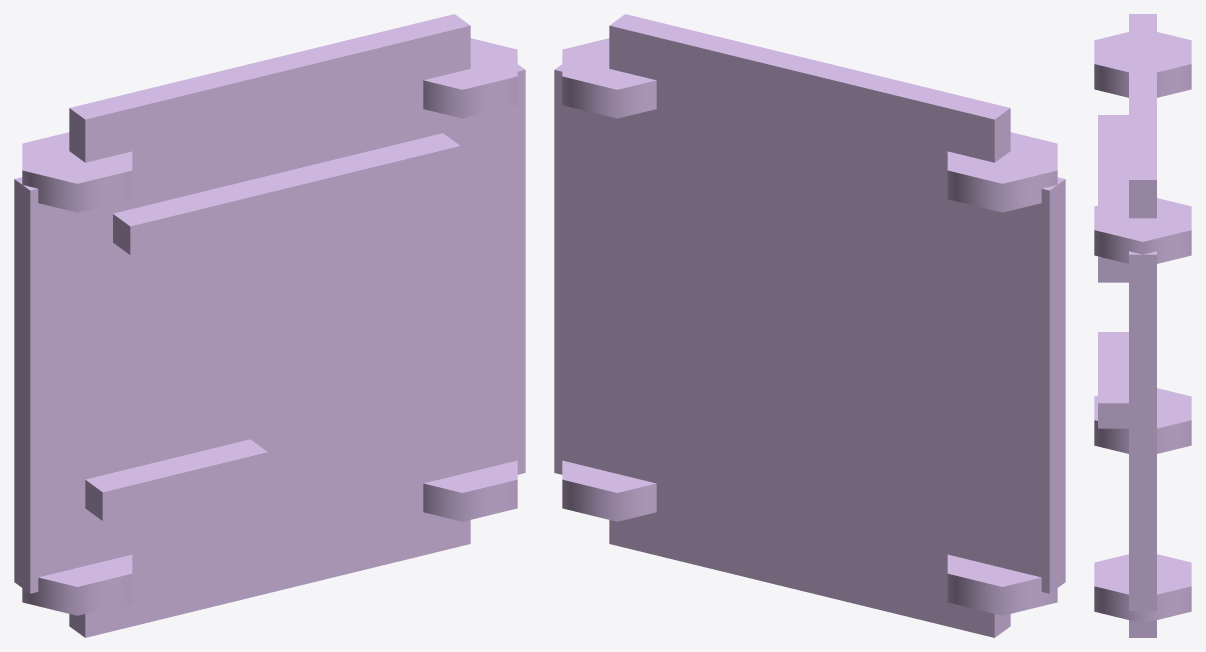
File: stellar_mapping.gltf
3 views of the same model, side by side, from view 1: azimuth 30°, elevation 25°; view 2: azimuth 150°, elevation 25°; view 3: azimuth 270°, elevation 25° (orthographic). The views are drawn at different scales.
Visible parts, largest first — view 1: stellar_mapping; view 2: stellar_mapping; view 3: stellar_mapping.
Boxes of the visible parts, left/top/right/bottom form: stellar_mapping: left=14, top=14, right=525, bottom=637; stellar_mapping: left=554, top=14, right=1065, bottom=637; stellar_mapping: left=1094, top=14, right=1191, bottom=637.
Size of the model in its own units: 0.9 by 0.9 by 0.1732.
